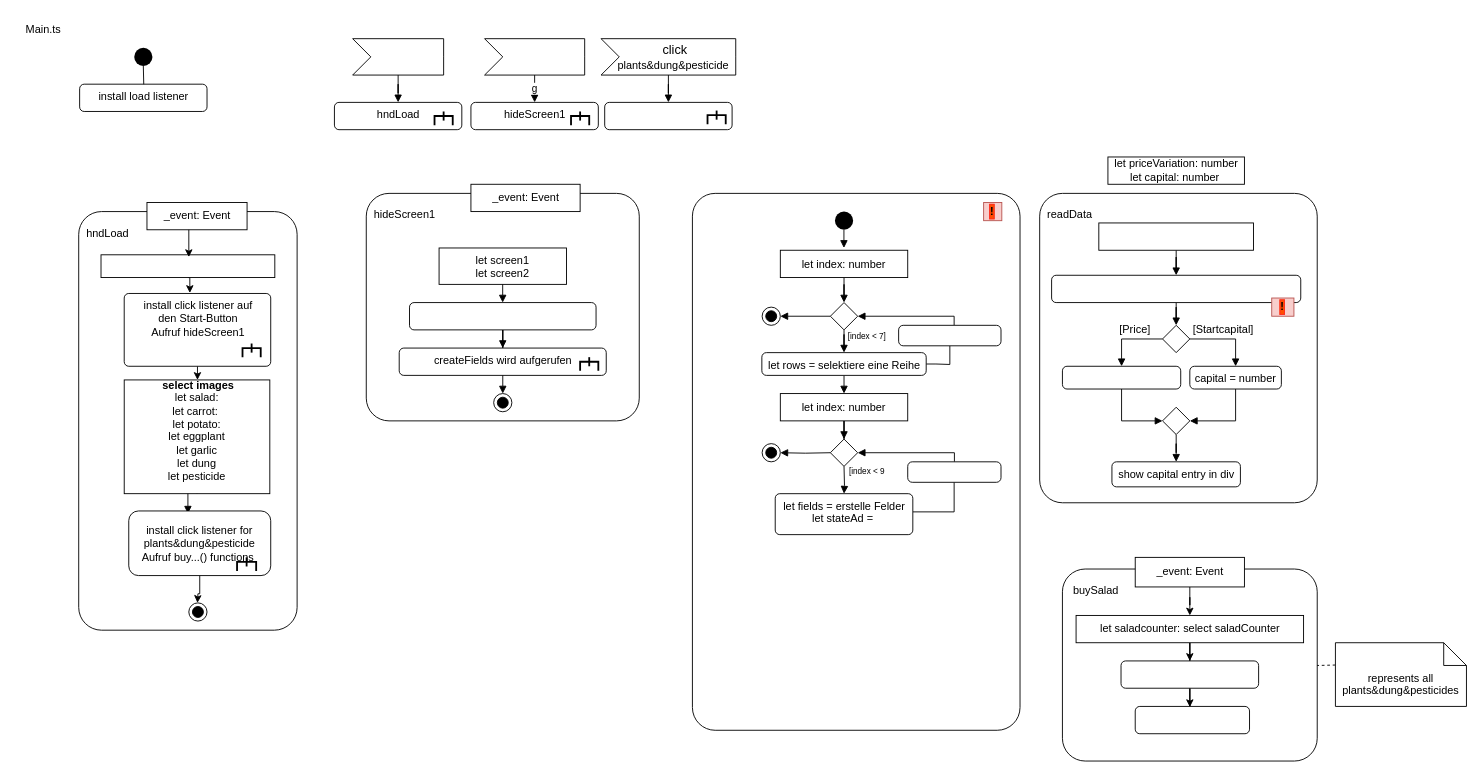
Image size: 1482x777. Some labels were removed from this diagram. Each missing label, with the box of its shape:
buy...() functions: (604, 101, 732, 130)
click start Button: (484, 38, 585, 75)
counter.innerHTML: (1134, 706, 1250, 734)
createFields: (692, 192, 1020, 730)
for of schleife to iterate through FormData.entries: (1051, 274, 1301, 303)
increase counter +1: (1120, 660, 1259, 688)
increase i by 1: (907, 461, 1001, 482)
increase index by 1: (898, 324, 1001, 346)
let formdata: select FormData: (1098, 222, 1254, 250)
let start = start Button selektieren: (100, 254, 275, 278)
load: (352, 38, 444, 75)
priceVariation = number: (1062, 365, 1181, 389)
werden getauscht mit style.display: (409, 302, 596, 330)
